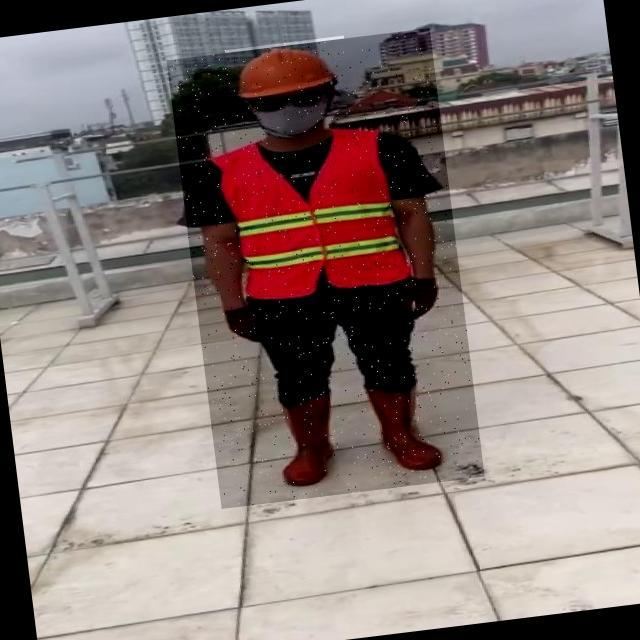Gloves: (223, 299, 278, 348), (392, 276, 443, 323)
Helmet: (225, 35, 351, 105)
Human: (166, 28, 484, 509)
Safety Boot: (363, 378, 444, 475), (273, 394, 344, 487)
Safety Vest: (218, 125, 410, 305)
